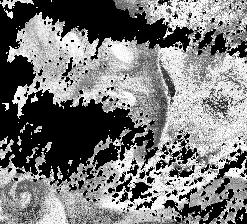CE: (8, 175, 50, 215)
